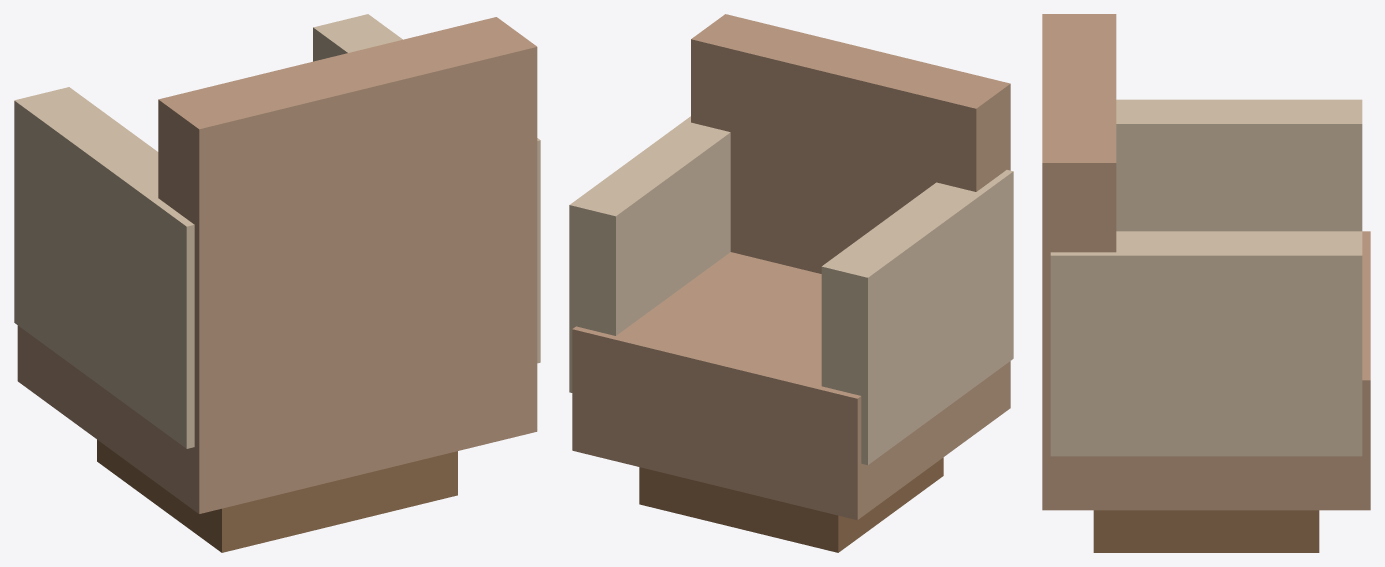
Rendered from armchair.glb.
3 views of the same model, side by side, from view 1: azimuth 30°, elevation 25°; view 2: azimuth 150°, elevation 25°; view 3: azimuth 270°, elevation 25° (orthographic). The views are drawn at different scales.
Parts seen in each view (by area): view 1: back, seat, left-arm, feet, right-arm; view 2: seat, back, left-arm, right-arm, feet; view 3: right-arm, left-arm, seat, back, feet.
Boxes of the visible parts, x1,y1,x2,y2 form: back: (158, 17, 537, 416); seat: (17, 288, 537, 513); left-arm: (14, 87, 194, 448); feet: (97, 439, 457, 552); right-arm: (313, 14, 540, 363); seat: (572, 252, 1010, 520); back: (691, 14, 1010, 273); left-arm: (821, 170, 1013, 465); right-arm: (569, 116, 730, 392); feet: (639, 457, 943, 552); right-arm: (1050, 231, 1362, 456); left-arm: (1116, 99, 1362, 231); seat: (1042, 231, 1370, 510); back: (1042, 14, 1116, 380); feet: (1093, 510, 1319, 552).
Size of the model in its own units: 0.9 by 1.11 by 0.8.
